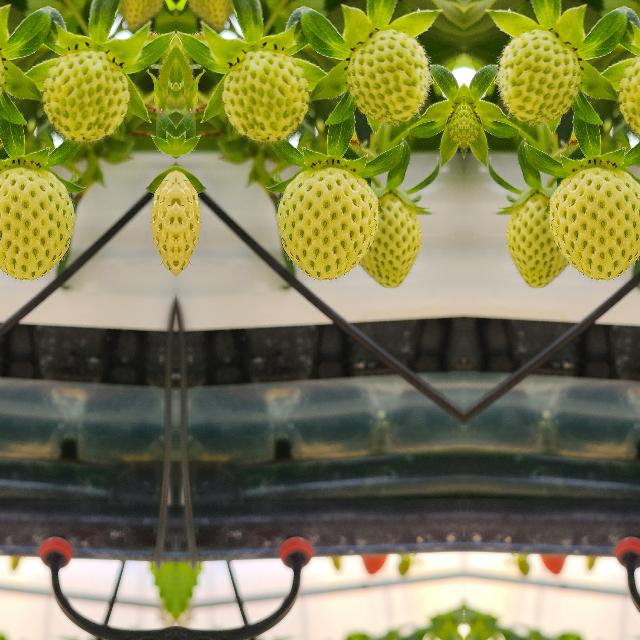Health_25: (276, 172, 378, 278), (548, 171, 640, 278), (222, 41, 310, 142), (40, 41, 128, 142), (0, 171, 73, 278), (342, 36, 428, 122), (498, 36, 584, 122), (354, 192, 418, 288), (508, 192, 572, 288), (175, 170, 213, 278), (137, 170, 175, 278), (616, 41, 640, 142)
